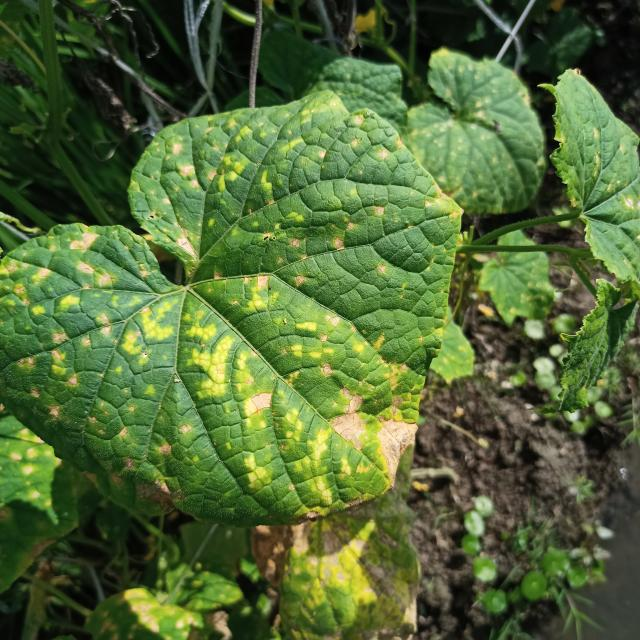disease_cucumber: (0, 99, 426, 527)
